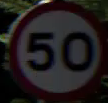Speed limit: (7, 3, 99, 93)
